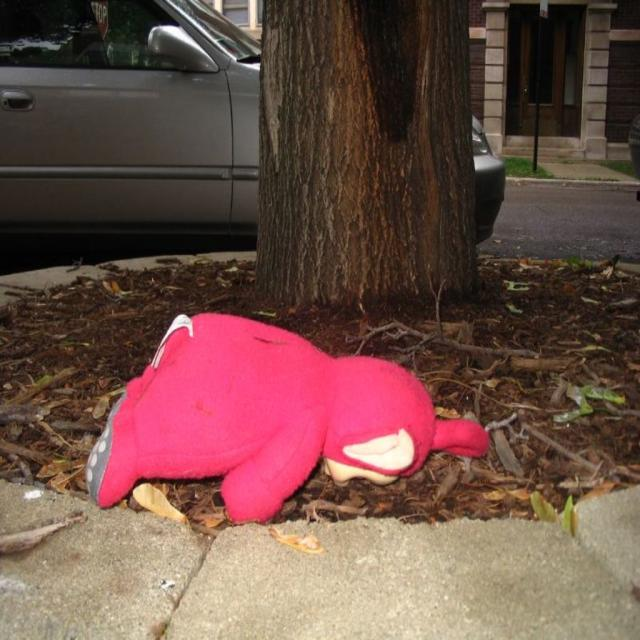car: (0, 0, 506, 246)
